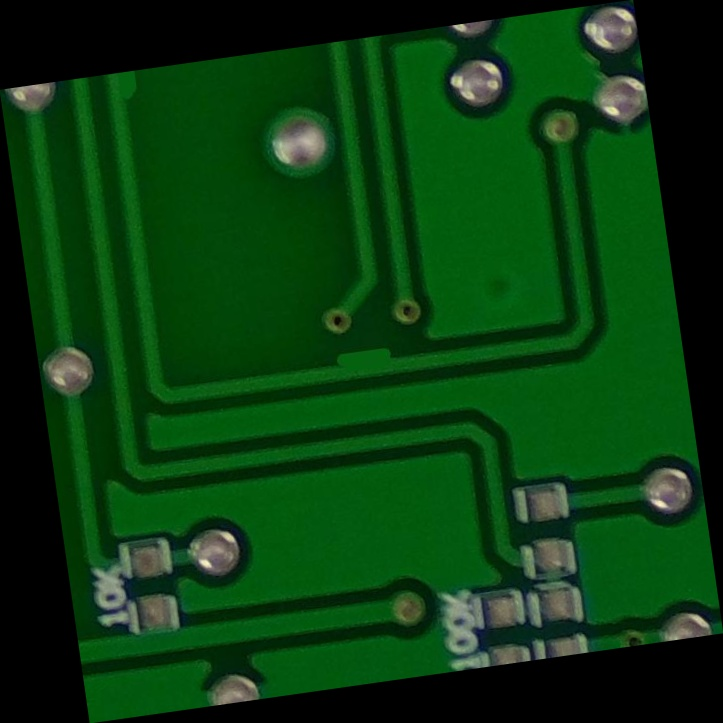spur: (321, 331, 403, 391)
